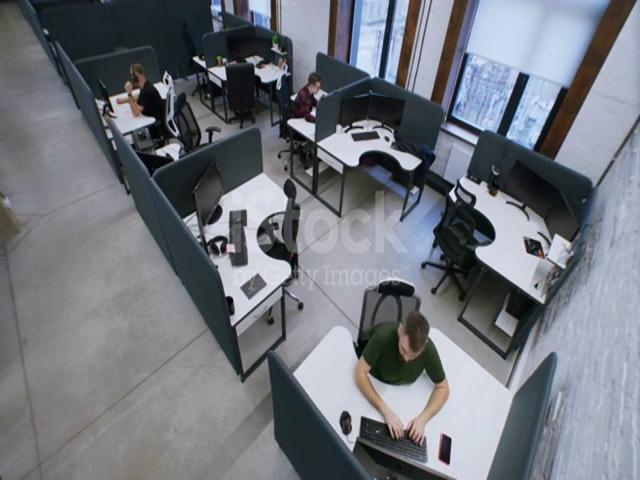empty chair: (425, 170, 489, 299), (266, 167, 312, 332), (173, 92, 226, 169), (222, 50, 262, 139), (178, 14, 209, 88)
occupiedchair: (357, 269, 452, 395), (274, 57, 334, 172), (103, 46, 175, 136)
